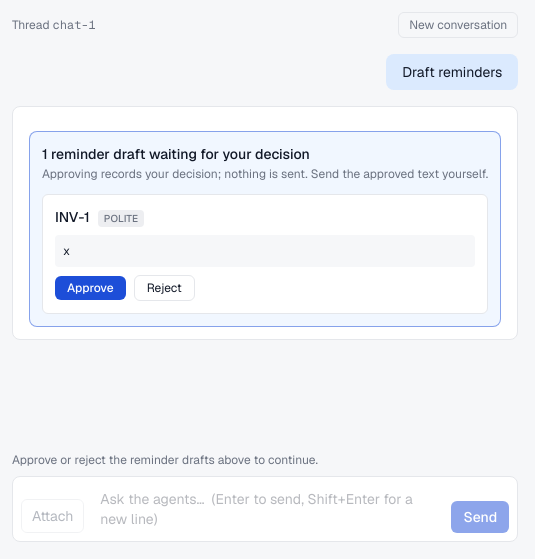
Scenario: Chat › shows why a decision failed and keeps the buttons
Earlier steps of the test are not shown.
Click the button "Approve" at (90, 288), box [55,276,126,300]
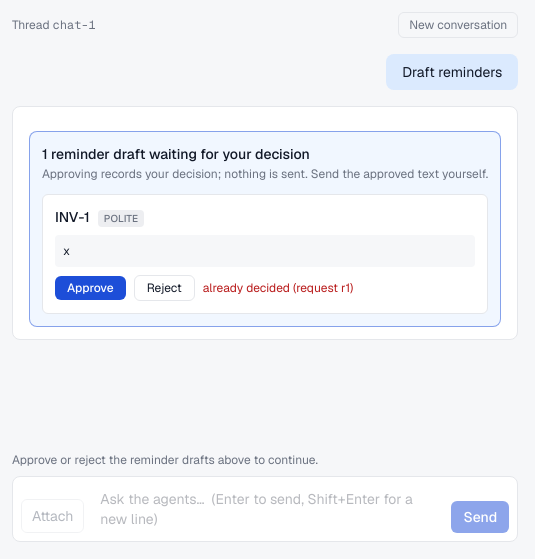
Result: the message reads "already decided (request r1)" at [203,280,353,296]
